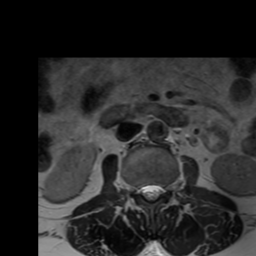CCS_normal: (148, 176, 155, 210)
LFS_stenosis: (163, 176, 170, 199)
LLS_normal: (155, 176, 163, 203)
RFS_normal: (131, 177, 139, 202)
RLS_normal: (139, 178, 148, 205)
